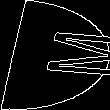M_W: (5, 29, 105, 81)
